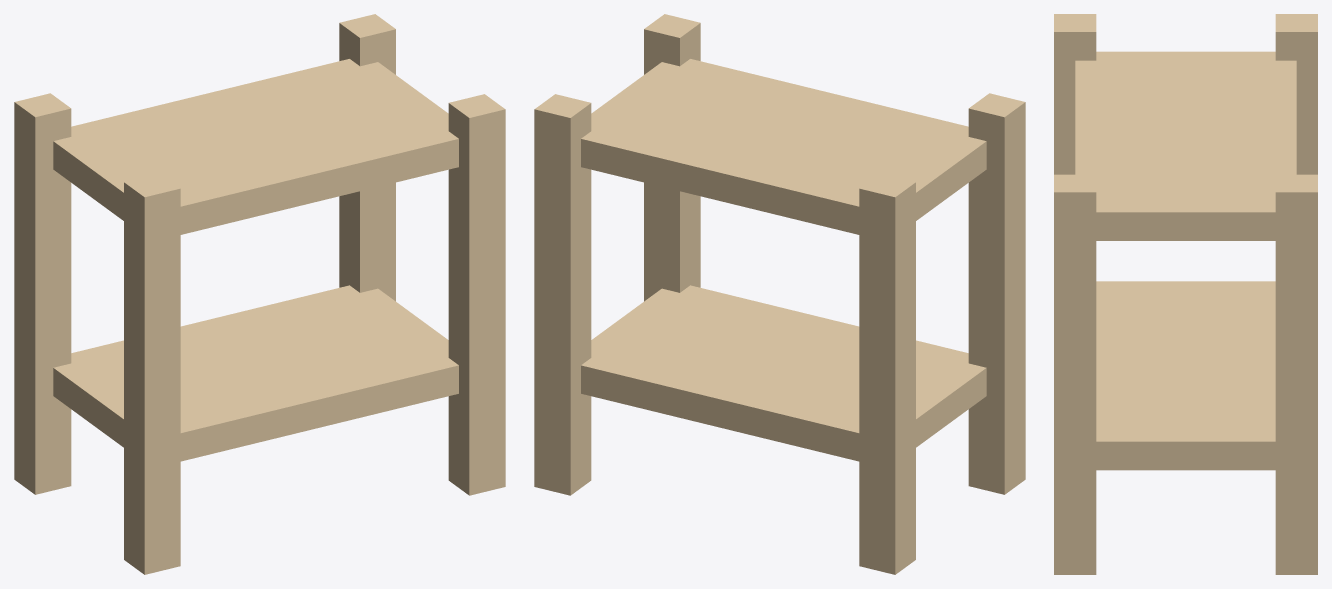
File: bookcaseOpenLow.glb
3 renders of one model, left to right at view 1: azimuth 30°, elevation 25°; view 2: azimuth 150°, elevation 25°; view 3: azimuth 270°, elevation 25°, orthographic.
Parts seen in each view (by area): view 1: bookcaseOpenLow; view 2: bookcaseOpenLow; view 3: bookcaseOpenLow.
Part boxes in pixels (bbox=[...]): bookcaseOpenLow: bbox=[14, 14, 505, 574]; bookcaseOpenLow: bbox=[534, 14, 1025, 574]; bookcaseOpenLow: bbox=[1054, 14, 1317, 574].
Size of the model in its own units: 4 by 4 by 2.5.
